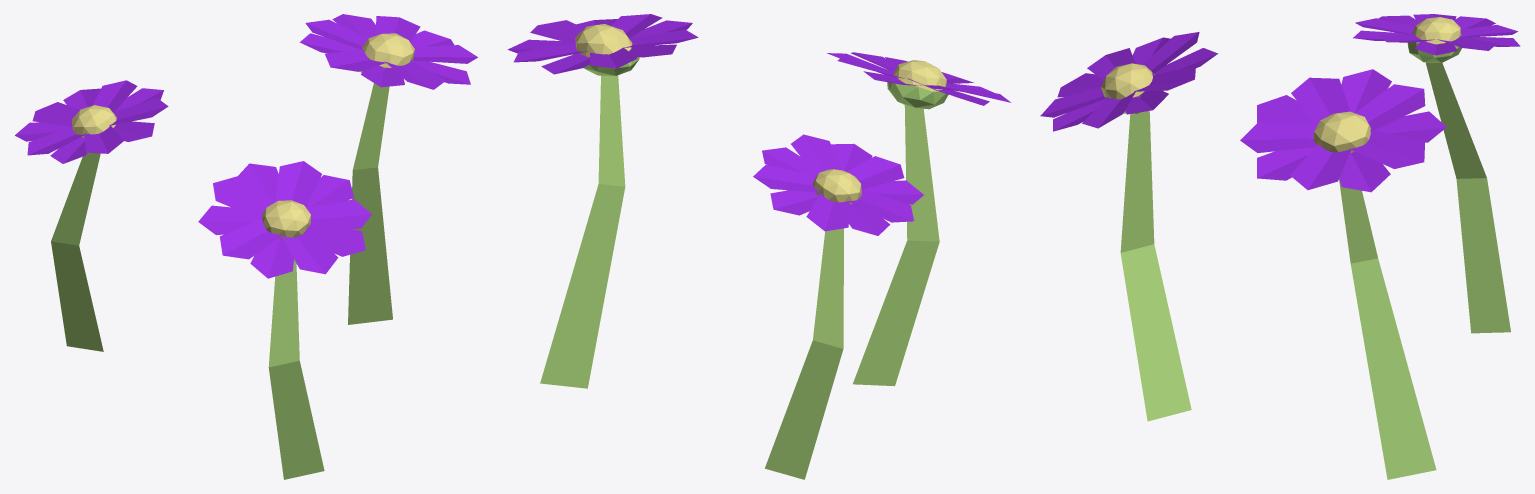
File: flower.fbx
The picture shows the model from 3 angles, left to right: view 1: azimuth 30°, elevation 25°; view 2: azimuth 150°, elevation 25°; view 3: azimuth 270°, elevation 25°; orthographic projection. The views are drawn at different scales.
Visible parts, largest first — view 1: flowers with grass3; view 2: flowers with grass3; view 3: flowers with grass3.
Boxes of the visible parts, <box> form: flowers with grass3: <box>15,14,477,479</box>; flowers with grass3: <box>507,14,1011,479</box>; flowers with grass3: <box>1040,14,1520,479</box>.
Bounding box in the file's own units: 156 × 129 × 142.
